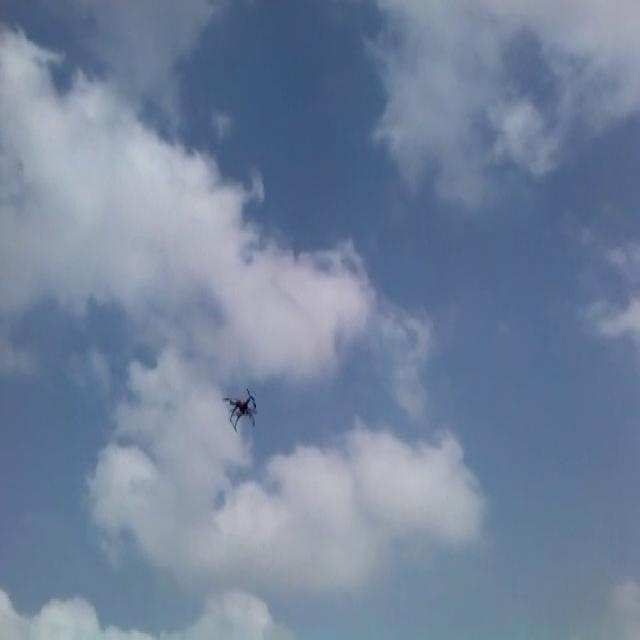drone: (222, 382, 259, 434)
